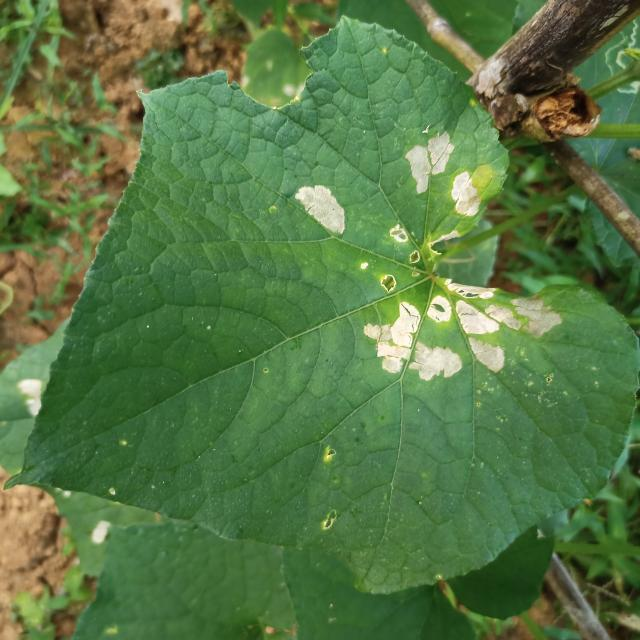disease_cucumber: (362, 268, 564, 383), (403, 125, 455, 195), (294, 182, 348, 238), (386, 220, 425, 268), (447, 170, 483, 221)
